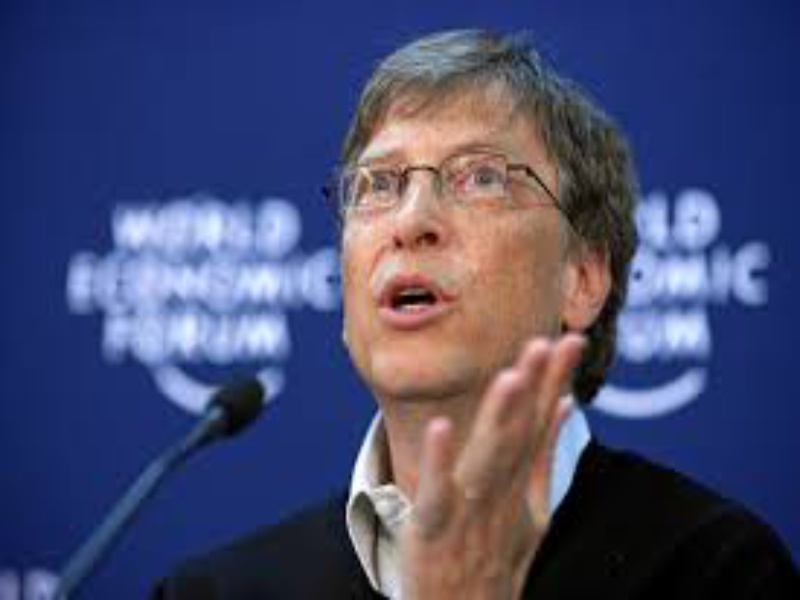TsisyArotava: (325, 25, 575, 418)
